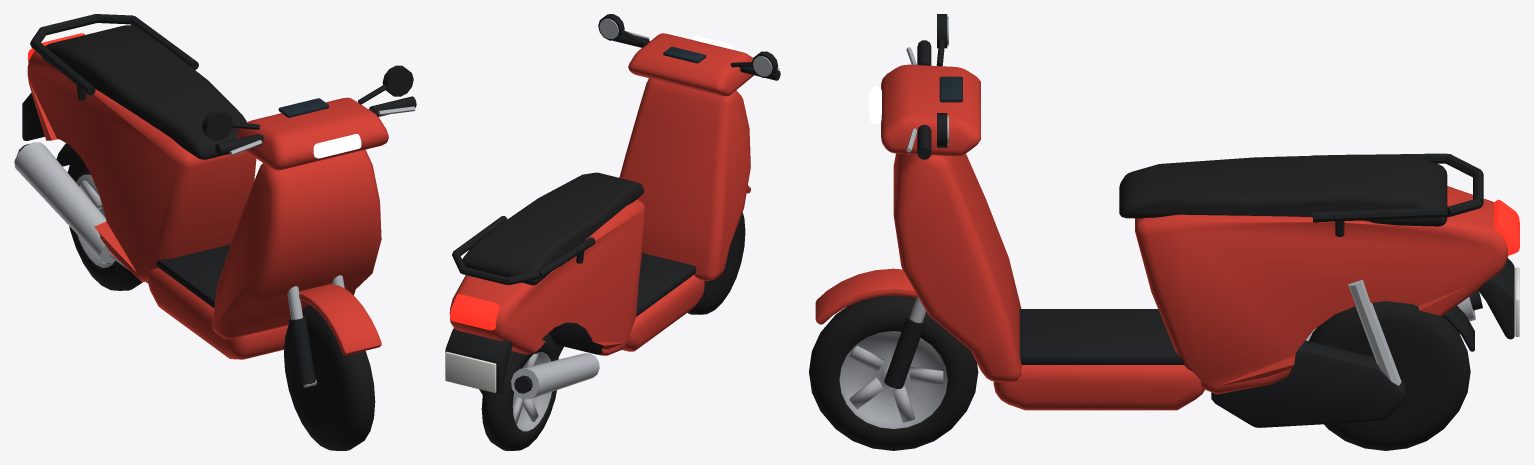
File: scooter.glb
3 renders of one model, left to right at view 1: azimuth 30°, elevation 25°; view 2: azimuth 150°, elevation 25°; view 3: azimuth 270°, elevation 25°, orthographic. The views are drawn at different scales.
Parts seen in each view (by area): view 1: body, wheel_f, wheel_r; view 2: body, wheel_r, wheel_f; view 3: body, wheel_f, wheel_r.
Boxes of the visible parts, x1,y1,x2,y2 form: body: (14,14,416,387); wheel_f: (284,305,375,450); wheel_r: (67,153,142,290); body: (445,14,780,399); wheel_r: (481,334,558,450); wheel_f: (687,212,745,314); body: (815,14,1519,427); wheel_f: (809,295,978,450); wheel_r: (1309,301,1470,450).
Bounding box in the file's own units: 0.7 × 1.1 × 1.85.
